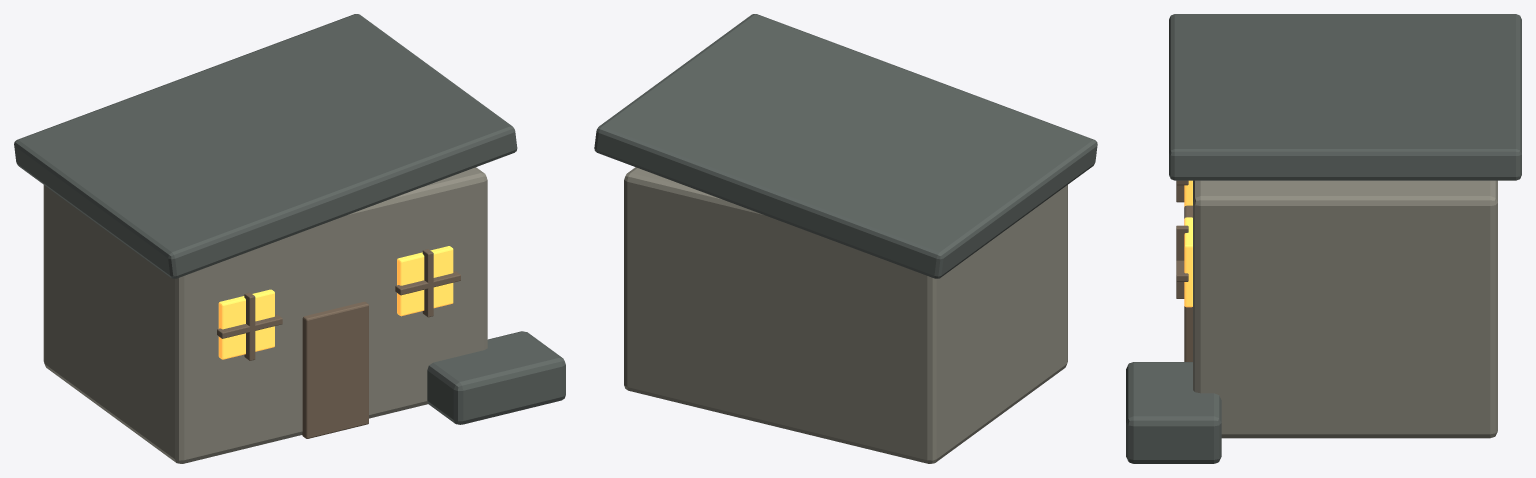
The model's file is ruined_house.glb.
3 renders of one model, left to right at view 1: azimuth 30°, elevation 25°; view 2: azimuth 150°, elevation 25°; view 3: azimuth 270°, elevation 25°, orthographic. The views are drawn at different scales.
Parts seen in each view (by area): view 1: CollapsedRoof, HouseBody, Rubble, Door, Window.001, Window, WindowBar, WindowBar.002, WindowBar.003, WindowBar.001; view 2: HouseBody, CollapsedRoof; view 3: HouseBody, CollapsedRoof, Rubble, Window.001, Door, WindowBar.002.
Boxes of the visible parts, x1=… form: CollapsedRoof: x1=14, y1=14, x2=517, y2=278; HouseBody: x1=43, y1=167, x2=487, y2=463; Rubble: x1=427, y1=331, x2=565, y2=424; Door: x1=302, y1=301, x2=368, y2=438; Window.001: x1=397, y1=246, x2=453, y2=316; Window: x1=218, y1=289, x2=274, y2=359; WindowBar: x1=244, y1=292, x2=255, y2=360; WindowBar.002: x1=422, y1=249, x2=433, y2=317; WindowBar.003: x1=395, y1=271, x2=460, y2=295; WindowBar.001: x1=217, y1=314, x2=282, y2=338; HouseBody: x1=624, y1=167, x2=1067, y2=463; CollapsedRoof: x1=594, y1=14, x2=1097, y2=278; HouseBody: x1=1193, y1=180, x2=1497, y2=438; CollapsedRoof: x1=1169, y1=14, x2=1521, y2=180; Rubble: x1=1126, y1=362, x2=1221, y2=463; Window.001: x1=1184, y1=217, x2=1192, y2=307; Door: x1=1184, y1=205, x2=1192, y2=361; WindowBar.002: x1=1176, y1=225, x2=1188, y2=298.
Bounding box in the file's own units: 5.1 × 3.45 × 4.15.
